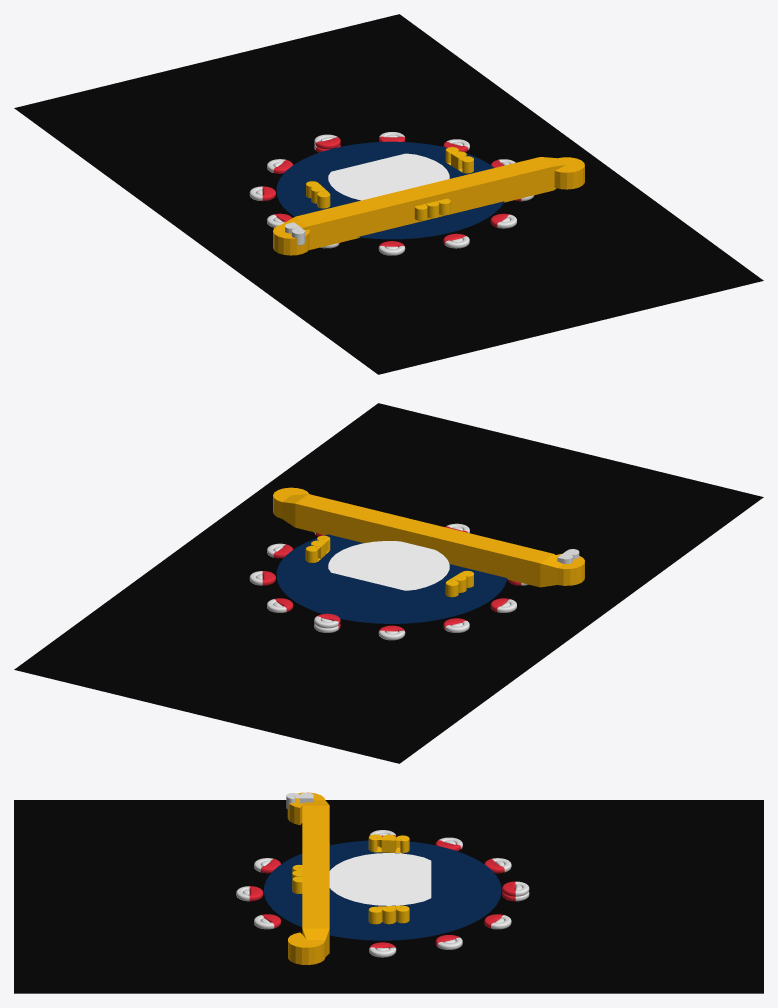
The model's file is Meztli.glb.
3 views of the same model, one above another, from view 1: azimuth 30°, elevation 25°; view 2: azimuth 150°, elevation 25°; view 3: azimuth 270°, elevation 25° (orthographic). The views are drawn at different scales.
Visible parts, largest first — view 1: Background, U, Outer circle, Pulque, Star, M boluta.001; view 2: Background, U, Outer circle, Pulque, Star, M boluta.001; view 3: Background, Outer circle, U, Pulque, Star, M boluta.001.
Boxes of the visible parts, x1,y1,x2,y2 form: Background: (14, 14, 763, 374); U: (273, 157, 584, 255); Outer circle: (276, 141, 504, 239); Pulque: (328, 153, 449, 200); Star: (249, 132, 534, 255); M boluta.001: (306, 147, 473, 220); Background: (14, 403, 763, 763); U: (273, 487, 584, 587); Outer circle: (276, 534, 507, 623); Pulque: (328, 541, 449, 590); Star: (249, 523, 527, 640); M boluta.001: (305, 535, 473, 597); Background: (14, 800, 763, 993); Outer circle: (263, 840, 501, 940); U: (287, 792, 329, 964); Pulque: (329, 853, 431, 905); Star: (236, 830, 529, 957); M boluta.001: (292, 834, 409, 924).
Size of the model in its own units: 16.8 by 1.3 by 27.5.
